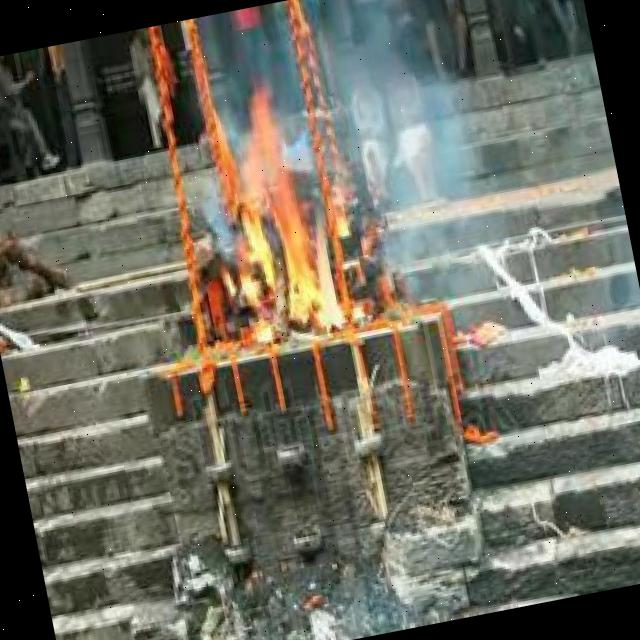fire: (202, 102, 364, 349)
